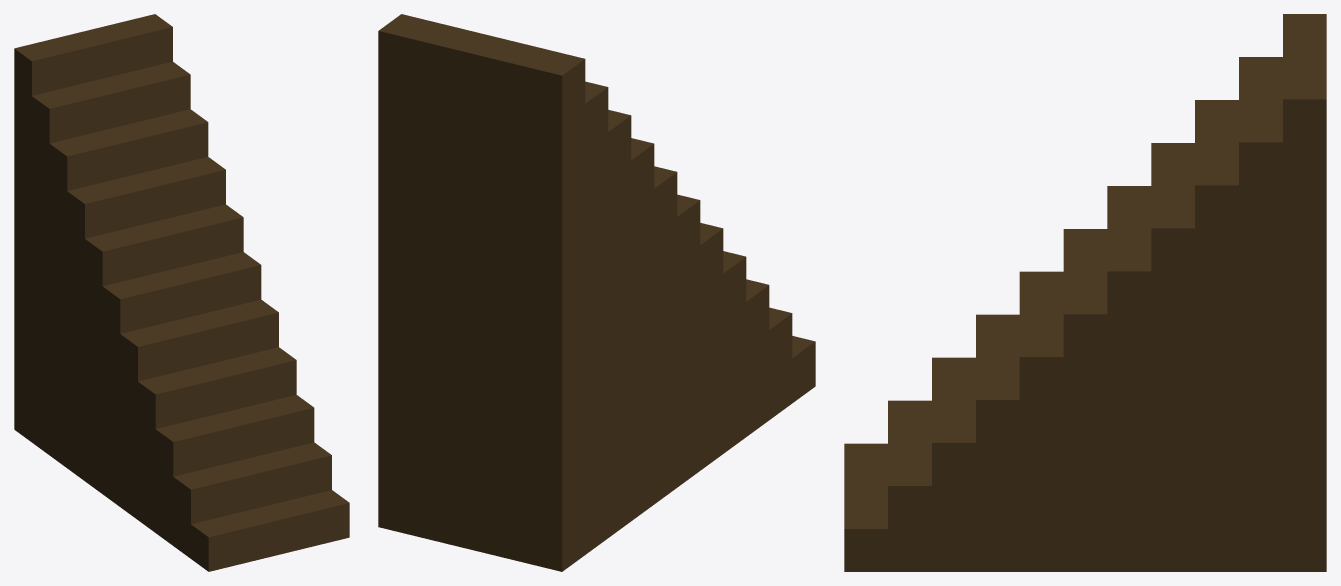
The model's file is Itr_Stair_04.FBX.
3 renders of one model, left to right at view 1: azimuth 30°, elevation 25°; view 2: azimuth 150°, elevation 25°; view 3: azimuth 270°, elevation 25°, orthographic. The views are drawn at different scales.
Parts seen in each view (by area): view 1: Itr_Stair_04; view 2: Itr_Stair_04; view 3: Itr_Stair_04.
Part boxes in pixels (x1,y1,x2,y2): Itr_Stair_04: [14, 14, 349, 571]; Itr_Stair_04: [378, 14, 815, 571]; Itr_Stair_04: [844, 14, 1326, 571].
Bounding box in the file's own units: 41.94 × 108 × 100.
